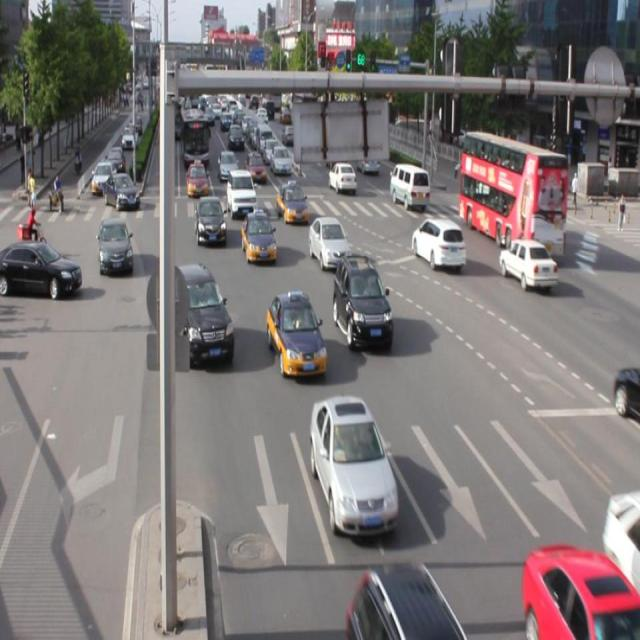car: (310, 391, 399, 536), (523, 539, 640, 640), (172, 262, 234, 366), (332, 252, 393, 348), (265, 289, 327, 377), (410, 215, 466, 269), (498, 236, 556, 287), (309, 212, 351, 270), (98, 216, 135, 273), (240, 207, 277, 262), (195, 194, 228, 247)
van: (458, 130, 563, 252)
